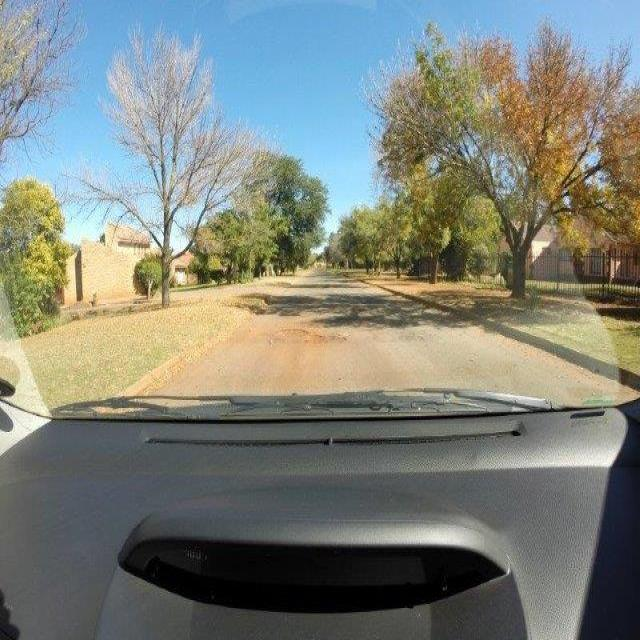lubang: (266, 321, 353, 351)
